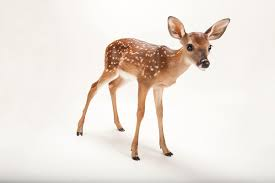Deer: (76, 16, 230, 162)
